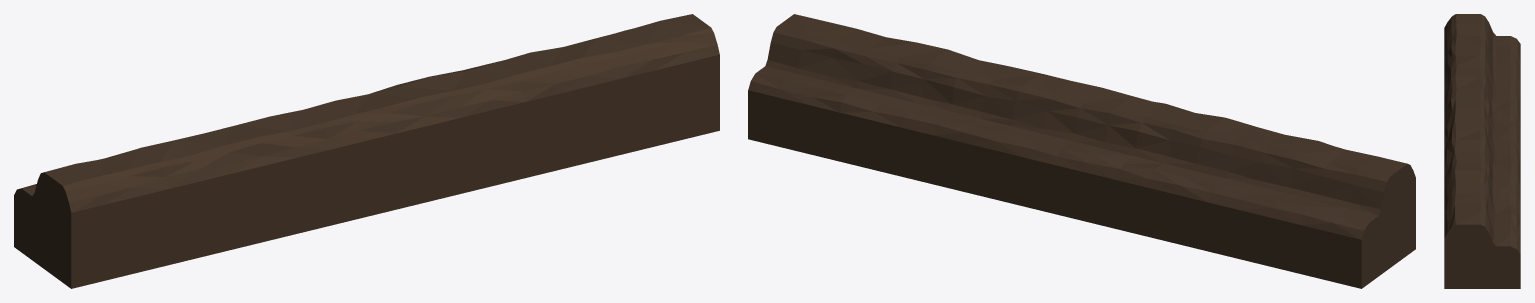
File: SM_MapFrame002_SegB.fbx
3 renders of one model, left to right at view 1: azimuth 30°, elevation 25°; view 2: azimuth 150°, elevation 25°; view 3: azimuth 270°, elevation 25°, orthographic. The views are drawn at different scales.
Parts seen in each view (by area): view 1: SM_MapFrame002_SegB; view 2: SM_MapFrame002_SegB; view 3: SM_MapFrame002_SegB.
Boxes of the visible parts, x1,y1,x2,y2 form: SM_MapFrame002_SegB: (14, 14, 719, 288); SM_MapFrame002_SegB: (748, 14, 1415, 288); SM_MapFrame002_SegB: (1444, 14, 1520, 288).
Size of the model in its own units: 157 by 24 by 22.74.
